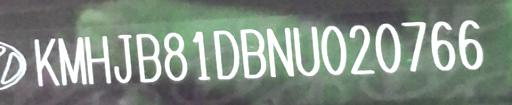letter: (54, 33, 92, 88), (208, 28, 244, 83), (454, 15, 488, 72), (263, 24, 297, 81), (290, 24, 322, 79), (237, 26, 269, 81), (158, 31, 190, 86), (82, 32, 114, 87), (318, 23, 348, 80), (373, 21, 403, 76), (347, 23, 377, 78), (134, 32, 164, 87), (32, 35, 62, 90), (400, 19, 428, 76), (428, 19, 456, 74), (188, 28, 216, 83), (110, 31, 136, 88)
